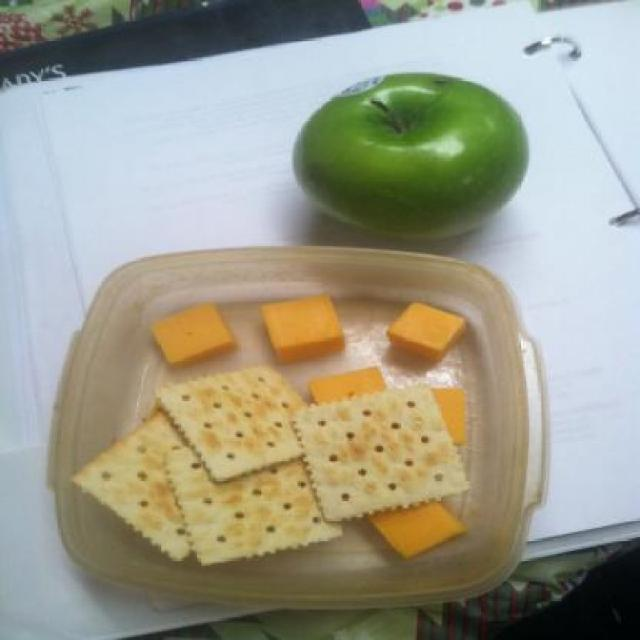Cracker packaged: (290, 384, 472, 518), (170, 439, 352, 564), (154, 368, 334, 482)
